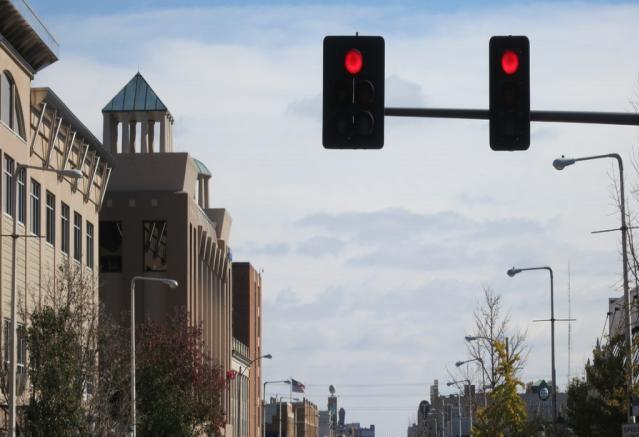red_light: (322, 34, 385, 149), (488, 36, 530, 151)
